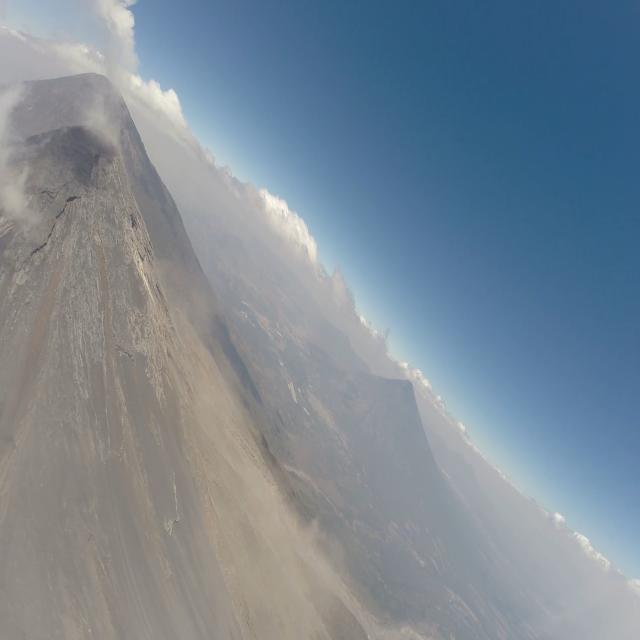Plume: (86, 0, 142, 155)
Summit: (1, 119, 188, 334)
